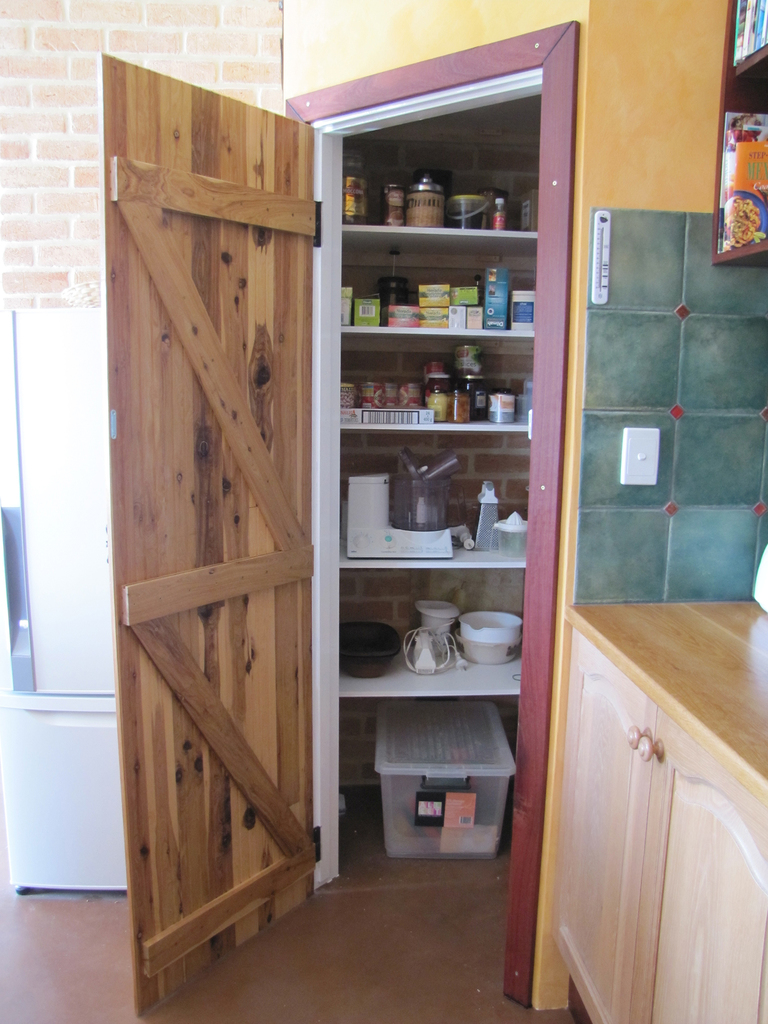cabinet door: (642, 728, 740, 1024), (569, 660, 639, 993)
door: (105, 63, 315, 905)
handle: (26, 703, 110, 738), (637, 732, 665, 778), (629, 717, 646, 755)
refrigerator door: (0, 309, 118, 690), (8, 718, 122, 876)
